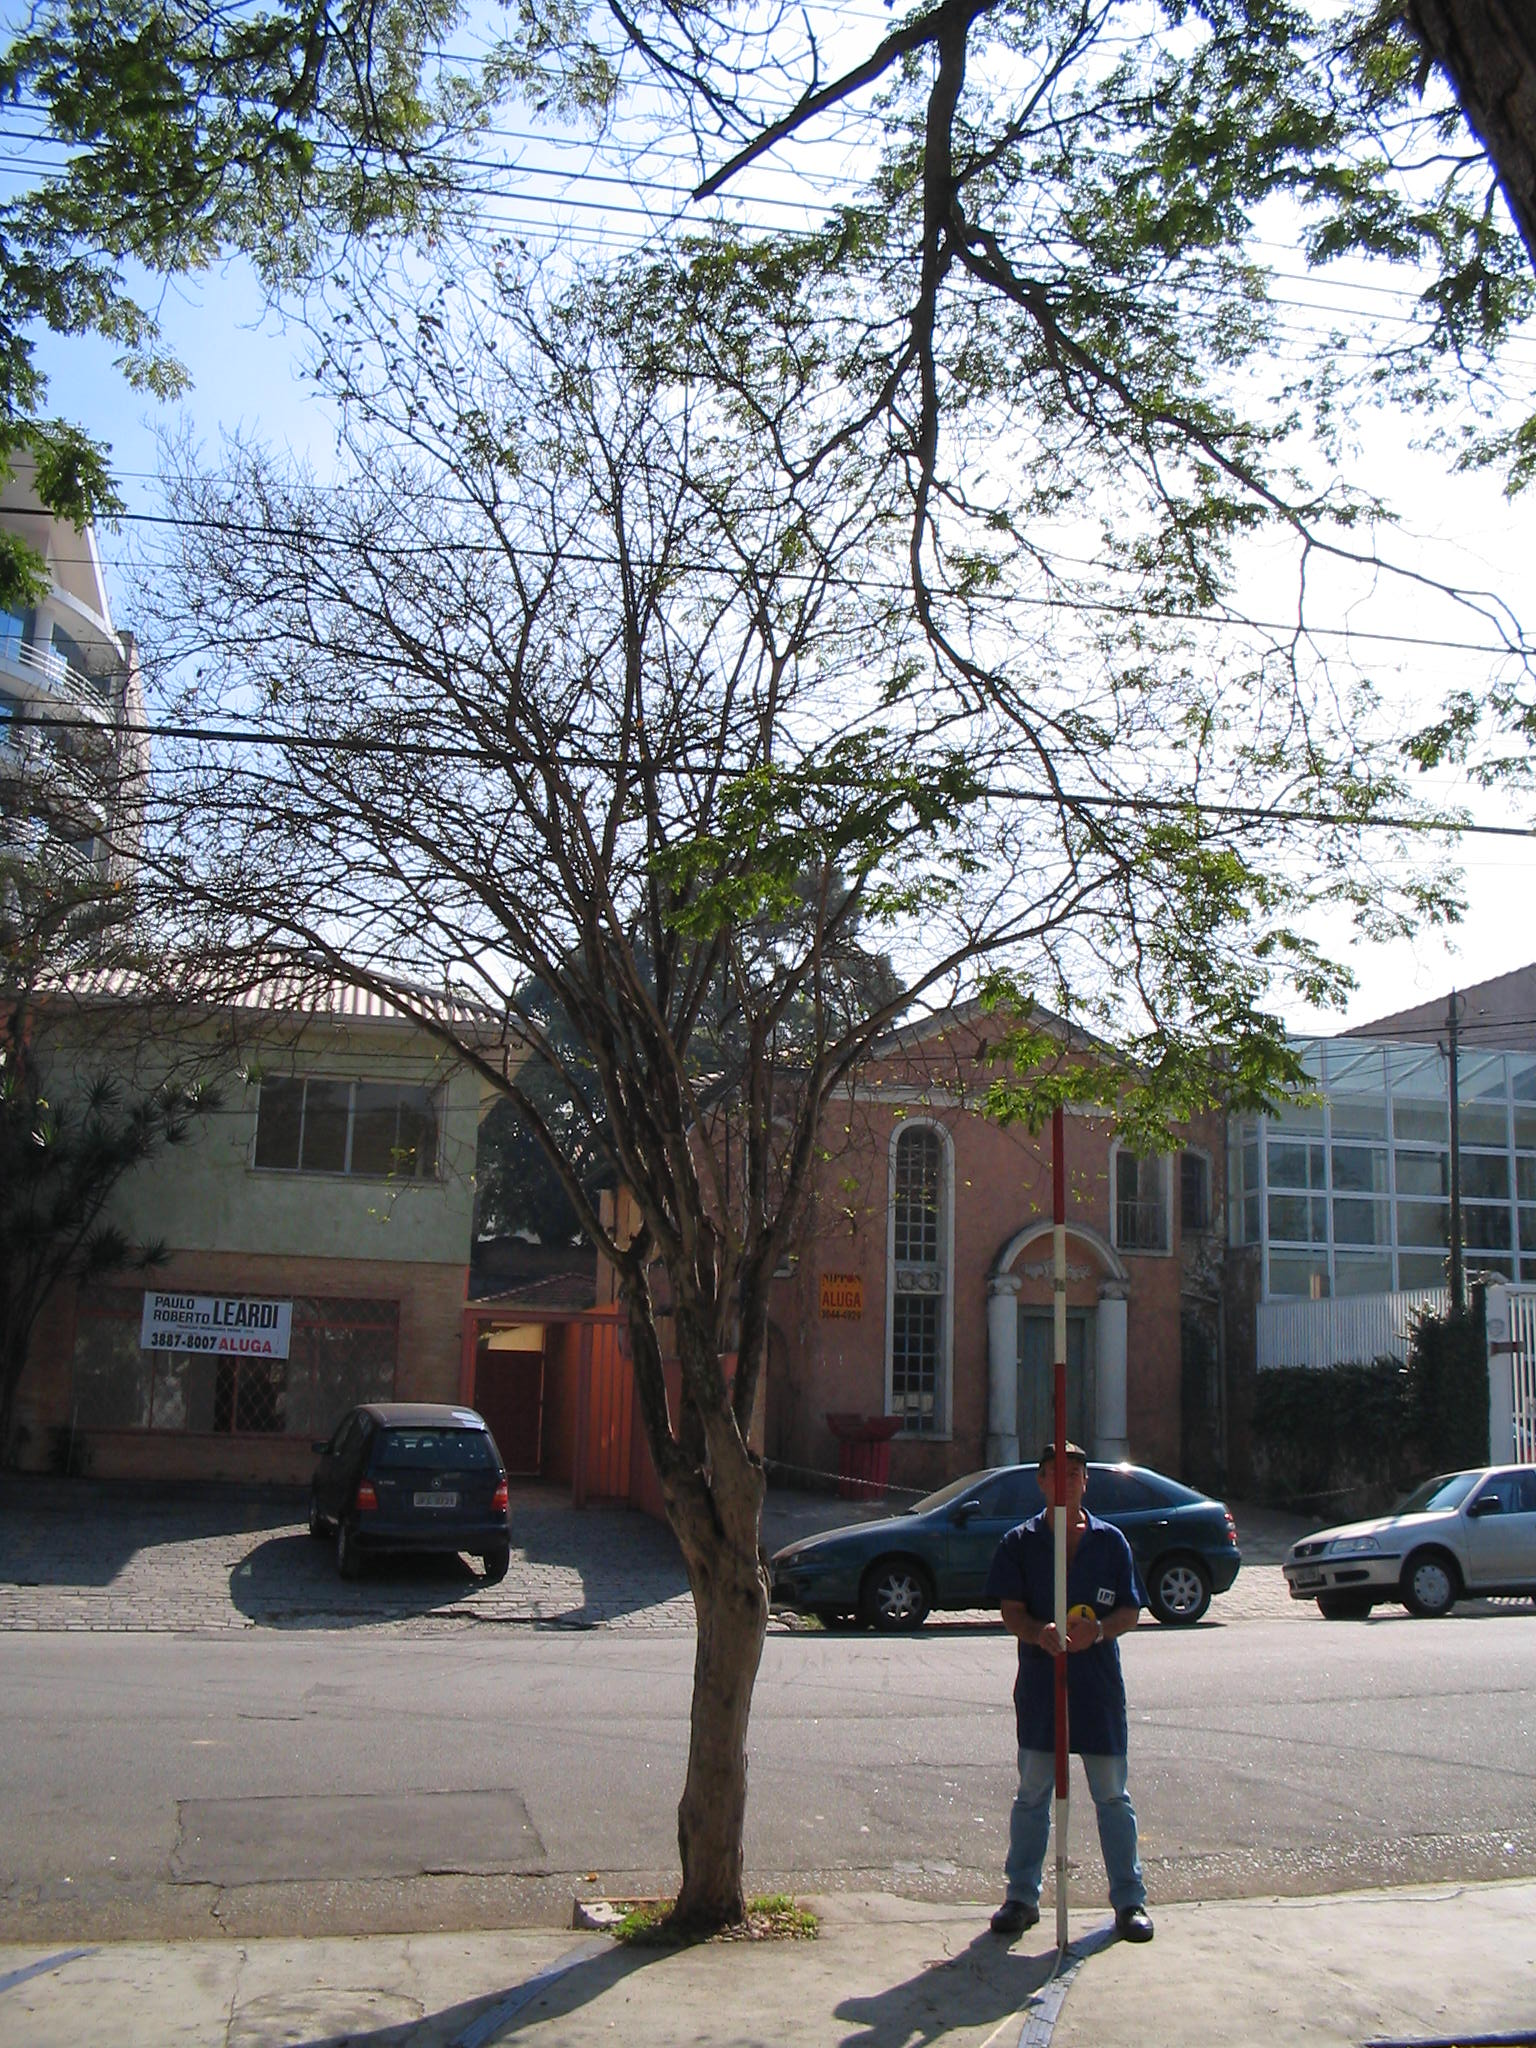crown: (27, 223, 1476, 1168)
stem: (637, 1551, 800, 1927)
stick: (1033, 1109, 1087, 1950)
tree: (24, 214, 1480, 1930)
